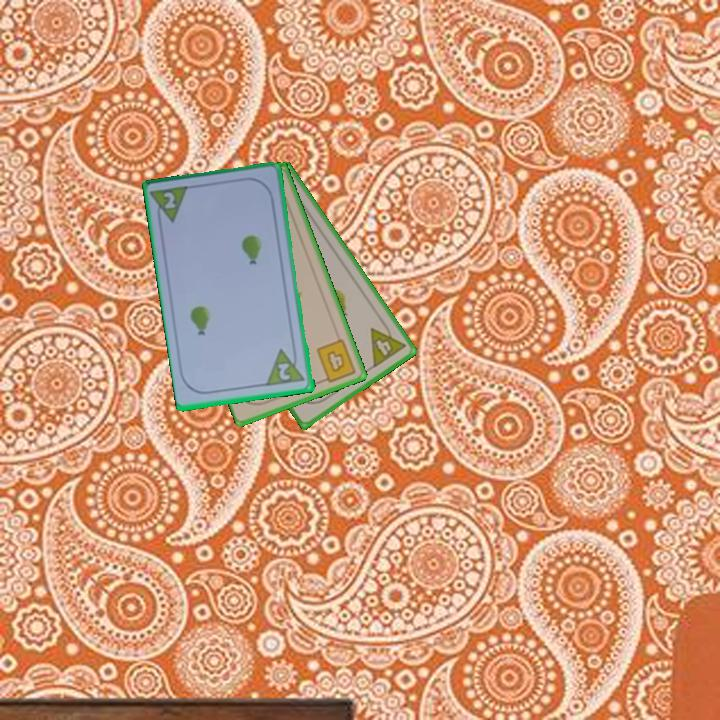2p: (148, 182, 193, 229), (264, 344, 308, 389)
4b: (313, 335, 359, 386)
4p: (367, 317, 409, 371)
